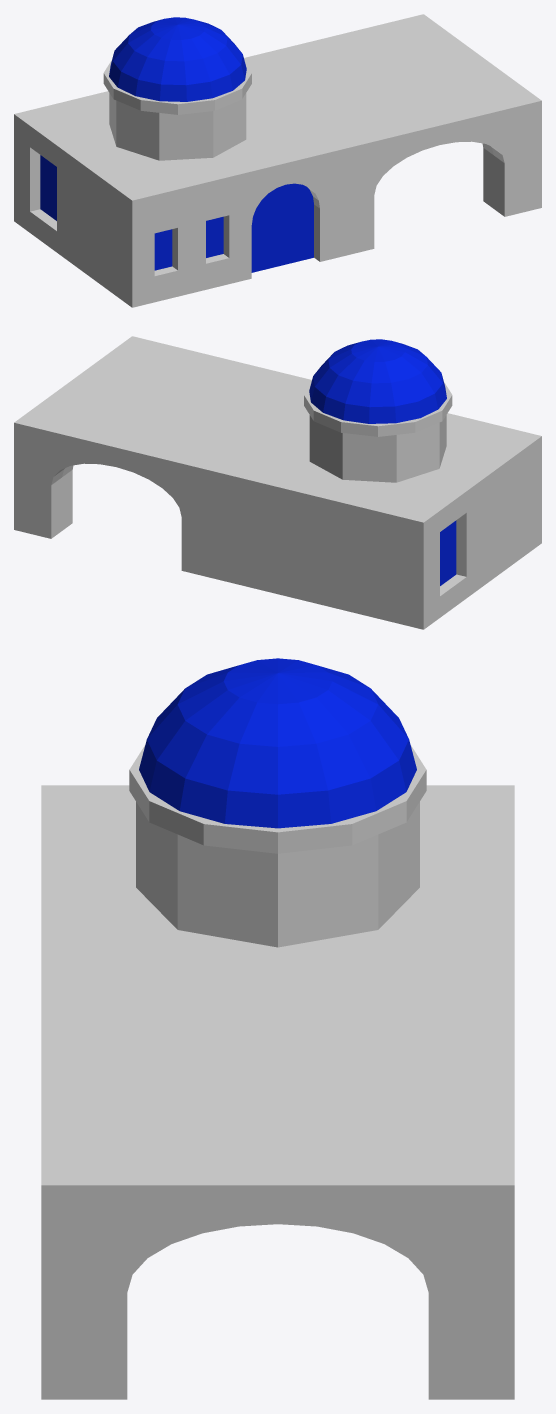
The model's file is SM_Module7_001.fbx.
3 renders of one model, top to bottom at view 1: azimuth 30°, elevation 25°; view 2: azimuth 150°, elevation 25°; view 3: azimuth 270°, elevation 25°, orthographic. The views are drawn at different scales.
Parts seen in each view (by area): view 1: 1DF2WF1WS.001, BigArches.008, Sphere.075, TopDome.003, Door2.041, Cylinder.178, WIndow2.124, WIndow2.122, WIndow2.123; view 2: 1DF2WF1WS.001, BigArches.008, Sphere.075, TopDome.003, Cylinder.178, WIndow2.124; view 3: BigArches.008, 1DF2WF1WS.001, Sphere.075, TopDome.003, Cylinder.178.
Part boxes in pixels (x1,y1,x2,y2): 1DF2WF1WS.001: (14,87,336,307); BigArches.008: (244,14,541,257); Sphere.075: (109,17,246,101); TopDome.003: (109,93,246,160); Door2.041: (251,183,313,272); Cylinder.178: (103,60,251,114); WIndow2.124: (40,155,56,220); WIndow2.122: (154,229,172,270); WIndow2.123: (206,216,223,257); 1DF2WF1WS.001: (219,409,541,629); BigArches.008: (14,336,311,579); Sphere.075: (309,339,446,423); TopDome.003: (309,415,446,482); Cylinder.178: (304,382,452,436); WIndow2.124: (440,520,456,585); BigArches.008: (41,985,514,1399); 1DF2WF1WS.001: (41,785,514,985); Sphere.075: (139,658,416,828); TopDome.003: (136,802,419,947); Cylinder.178: (129,745,426,853).
Size of the model in its own units: 1000 by 500 by 500.
